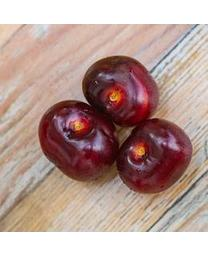cherry: (37, 99, 121, 181), (115, 118, 193, 194), (82, 55, 159, 127)
